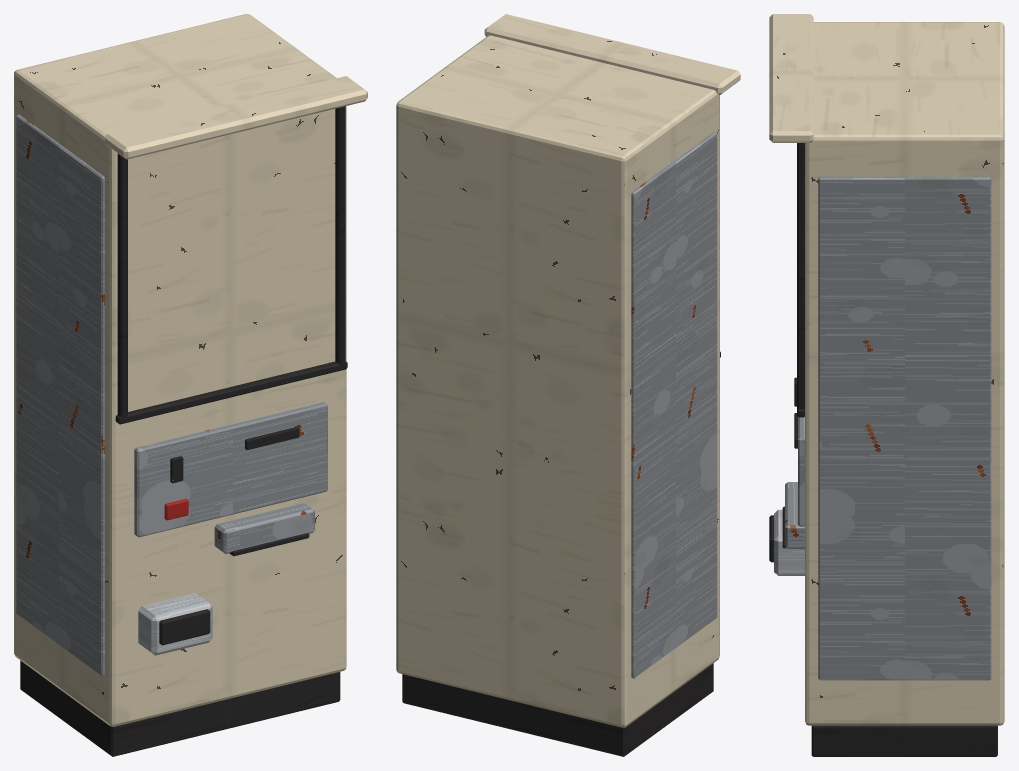
The model's file is ticket_machine.glb.
The picture shows the model from 3 angles, left to right: view 1: azimuth 30°, elevation 25°; view 2: azimuth 150°, elevation 25°; view 3: azimuth 270°, elevation 25°; orthographic projection. The views are drawn at different scales.
Visible parts, largest first — view 1: p; view 2: p; view 3: p.
Boxes of the visible parts, x1,y1,x2,y2 form: p: (14,14,367,756); p: (396,14,740,756); p: (769,14,1004,756).
Bounding box in the file's own units: 0.64 × 1.56 × 0.53.
Materials: 5 (5 with a texture image).
